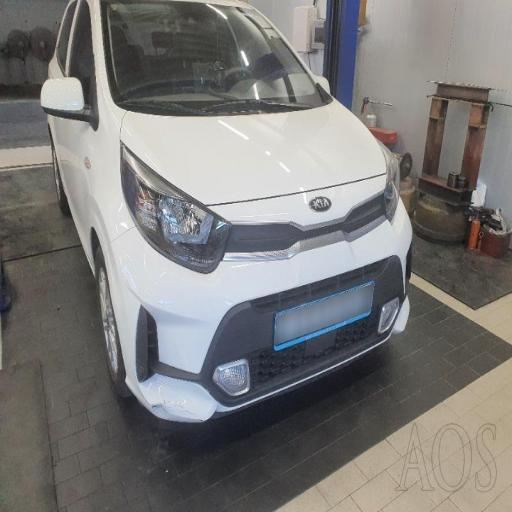dent: (117, 308, 218, 435)
